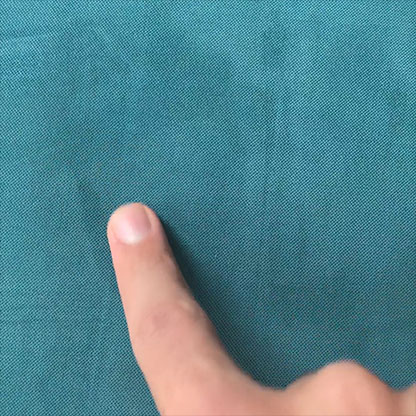fingertip: (87, 188, 176, 260)
